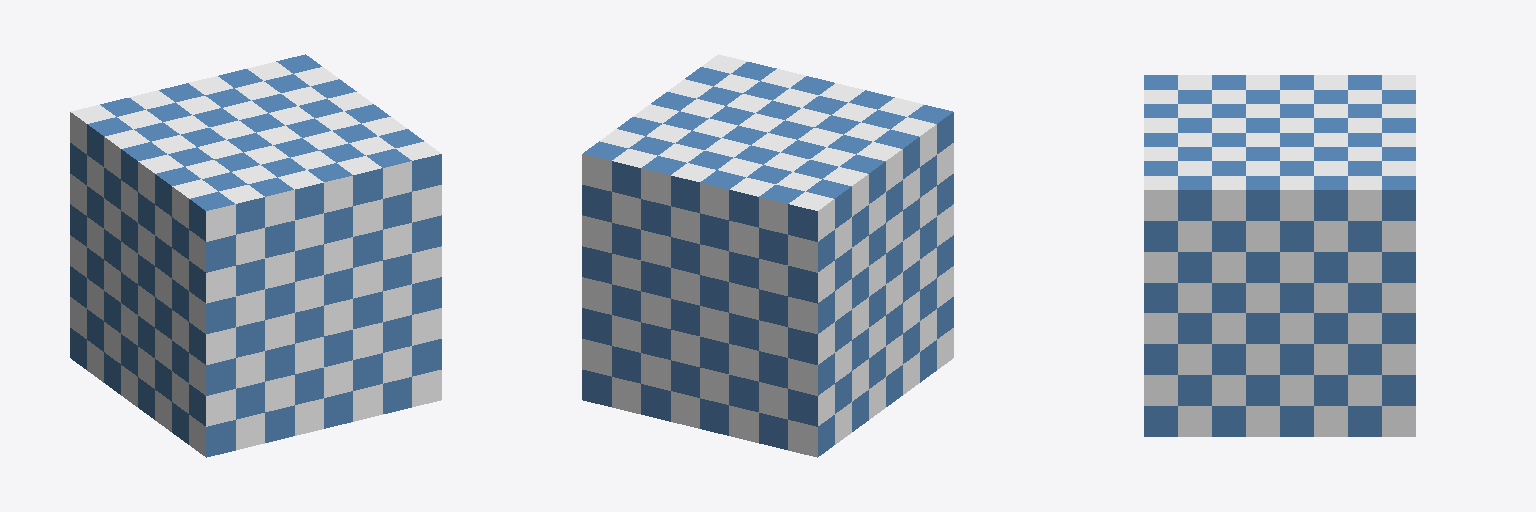
3 views of the same model, side by side, from view 1: azimuth 30°, elevation 25°; view 2: azimuth 150°, elevation 25°; view 3: azimuth 270°, elevation 25° (orthographic).
Bounding box in the file's own units: 2 × 2 × 2.
Materials: 1 (1 with a texture image).